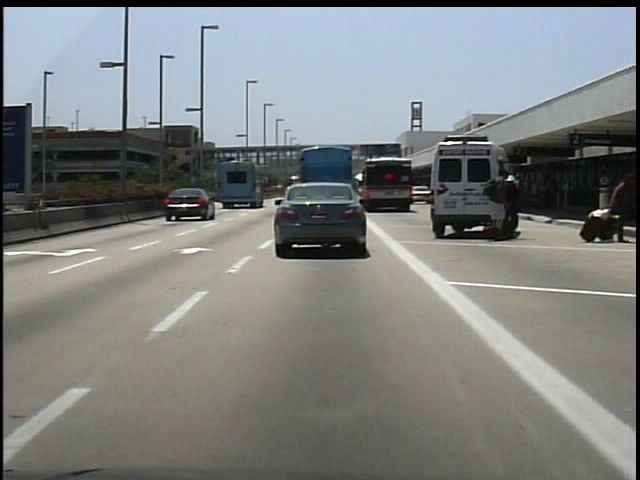person: (604, 167, 633, 245), (485, 166, 512, 241), (506, 173, 523, 240)
